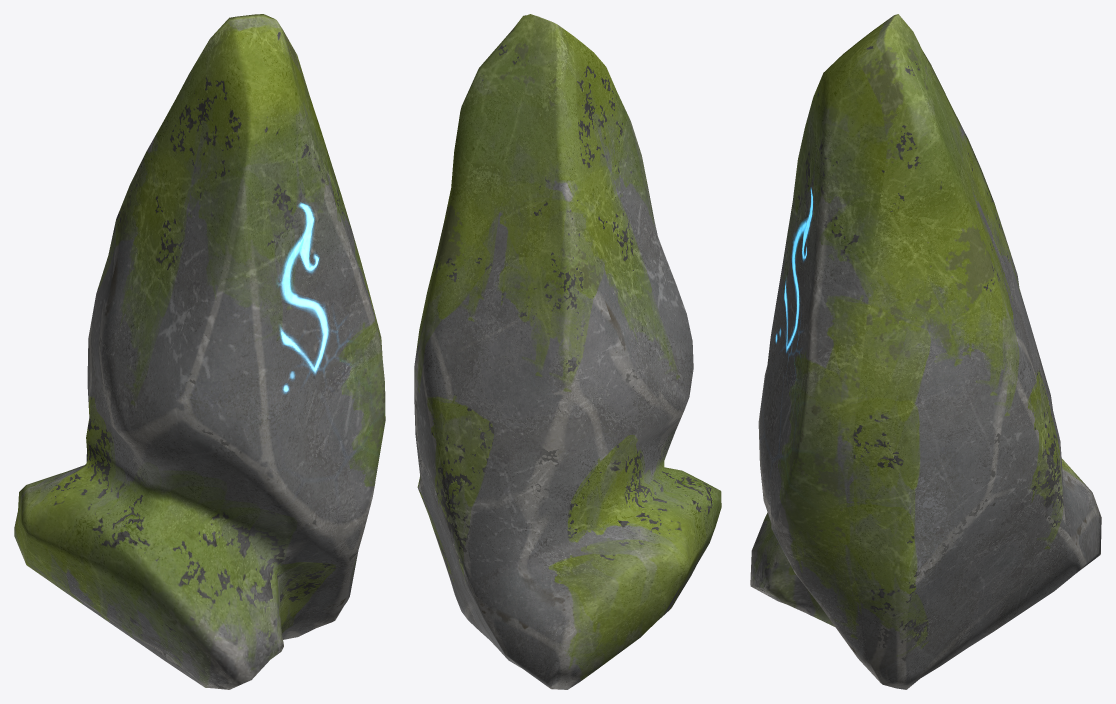
File: fantasy_rock.glb
The picture shows the model from 3 angles, left to right: view 1: azimuth 30°, elevation 25°; view 2: azimuth 150°, elevation 25°; view 3: azimuth 270°, elevation 25°; orthographic projection. The views are drawn at different scales.
Visible parts, largest first — view 1: rockmeshlow:Group3880; view 2: rockmeshlow:Group3880; view 3: rockmeshlow:Group3880.
Part boxes in pixels (<box>): rockmeshlow:Group3880: <box>14,14,385,689</box>; rockmeshlow:Group3880: <box>414,14,721,689</box>; rockmeshlow:Group3880: <box>750,14,1101,689</box>.
Bounding box in the file's own units: 0.0261 × 0.0525 × 0.026.
1 material, 1 textured.
